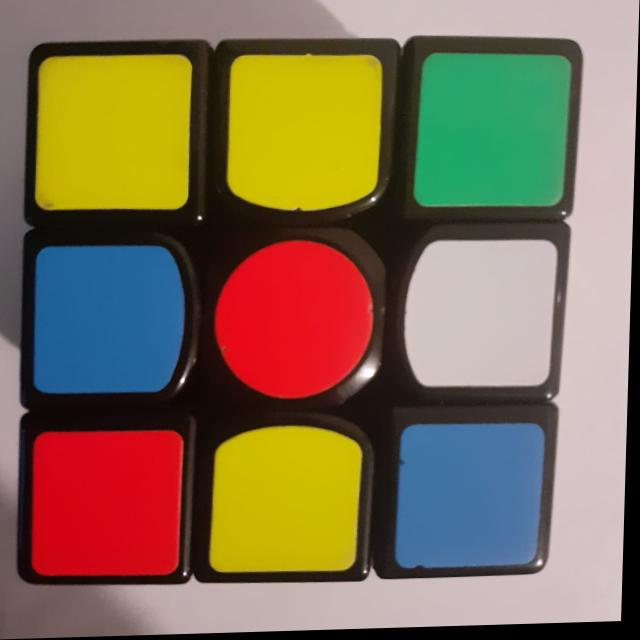Blue: (18, 238, 202, 410), (386, 423, 554, 580)
Green: (403, 44, 576, 227)
Red: (209, 235, 391, 419), (16, 420, 192, 585)
White: (400, 238, 566, 403)
Yellow: (23, 48, 205, 229), (215, 44, 389, 221), (204, 434, 374, 588)
